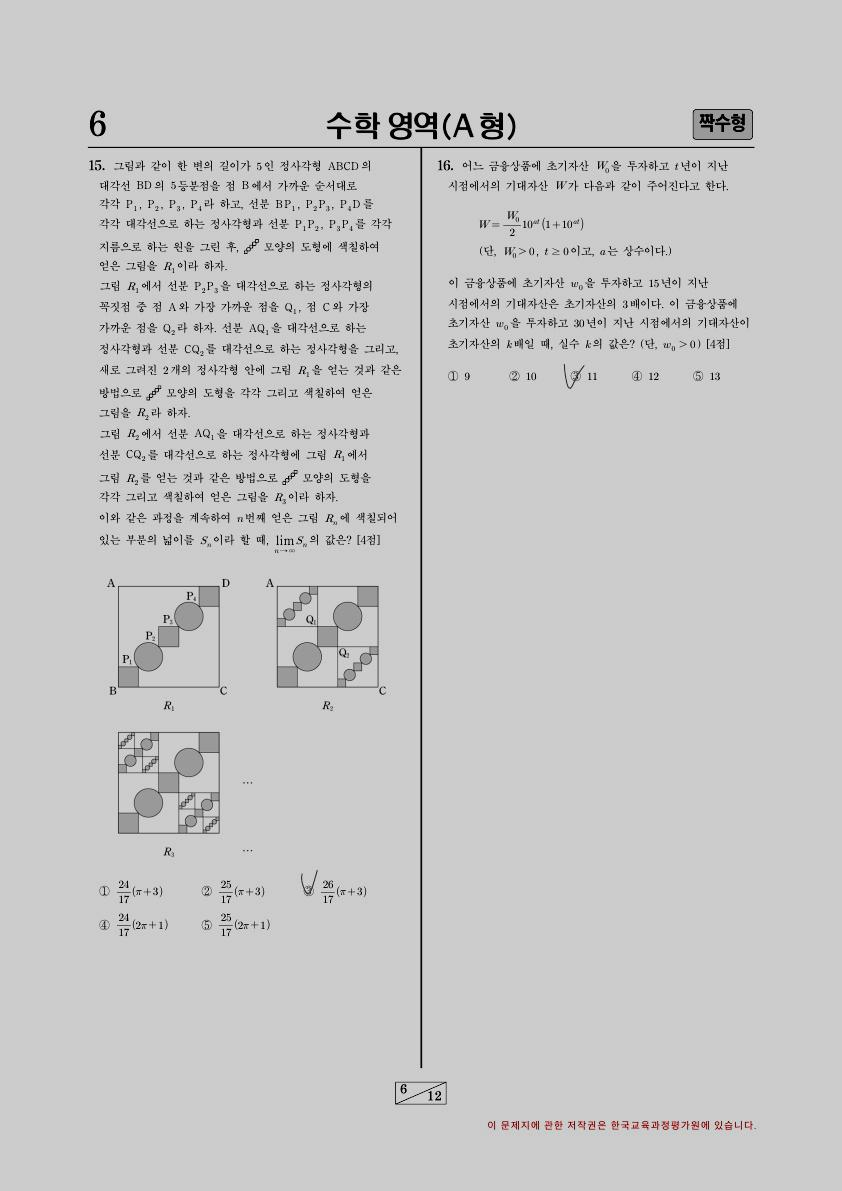question: (66, 148, 412, 958), (424, 151, 764, 409)
